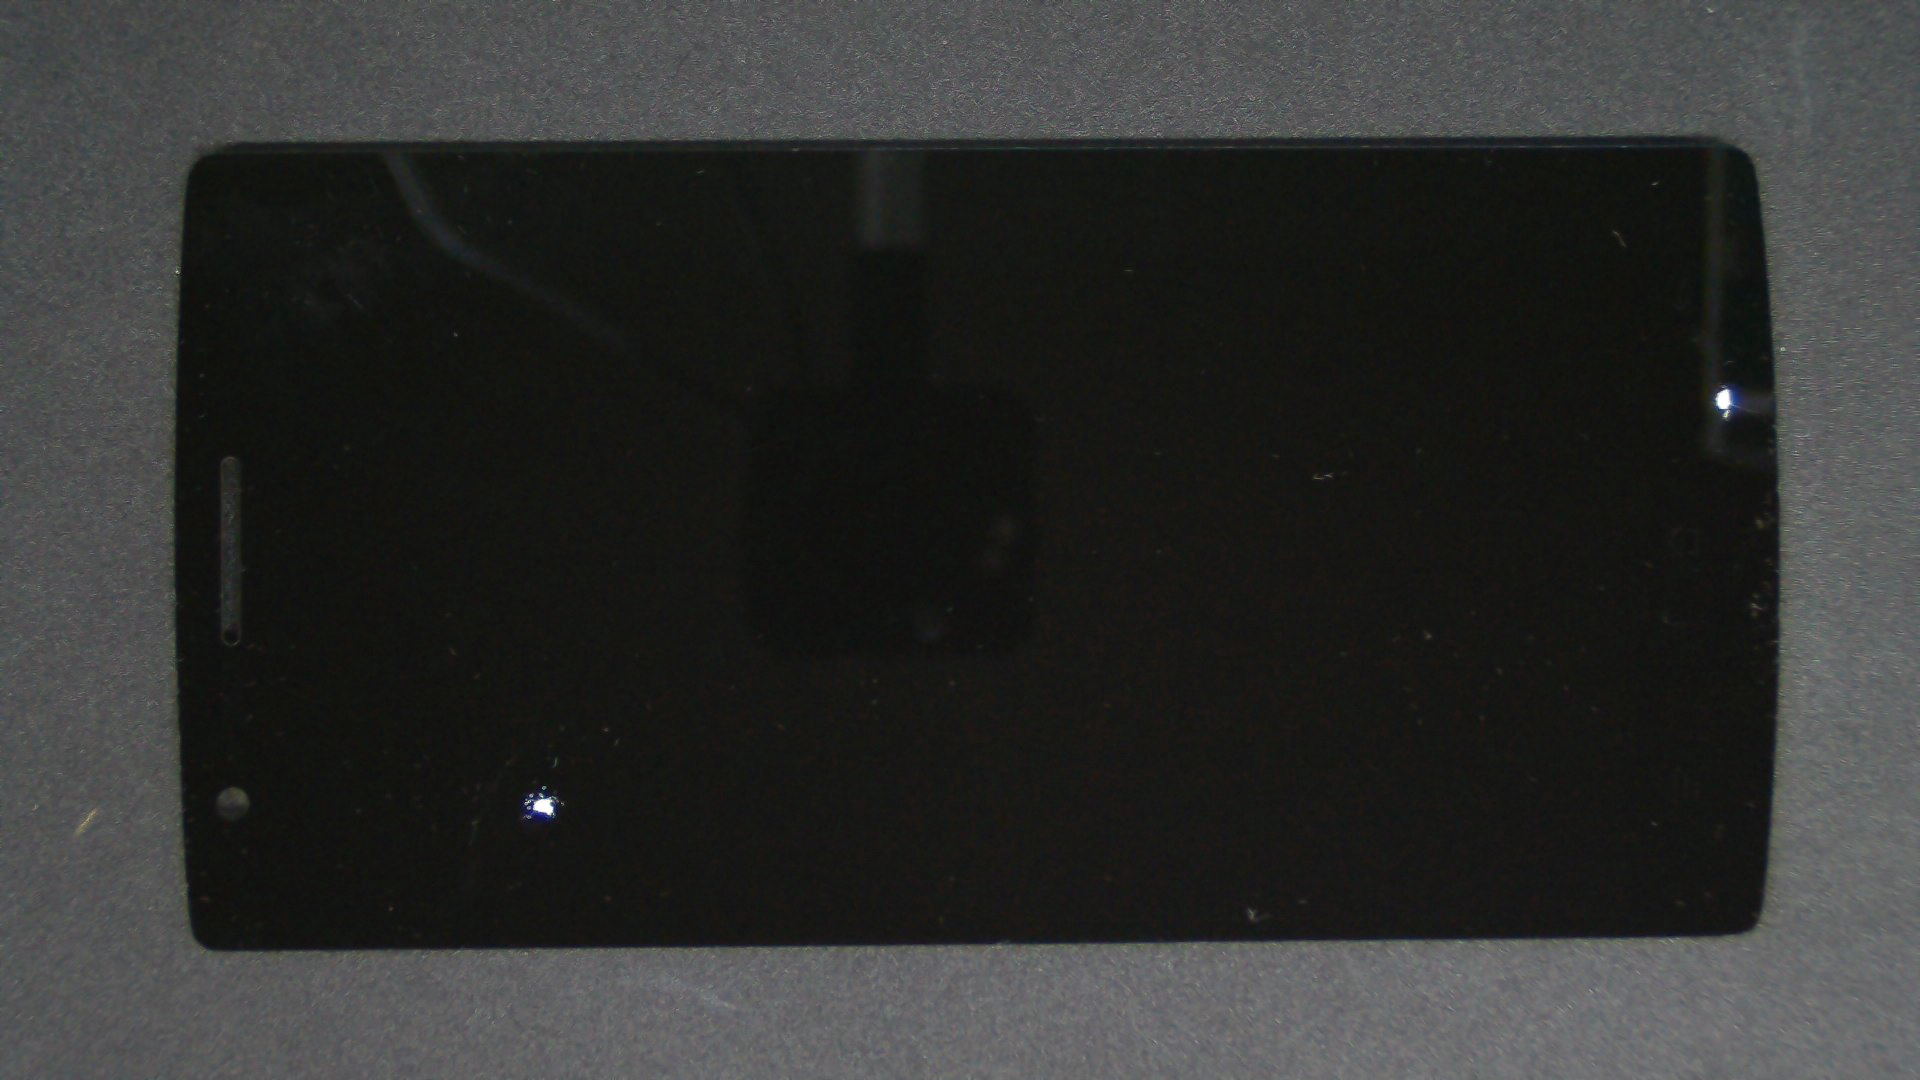defect: (521, 785, 564, 820), (1714, 382, 1737, 422)
